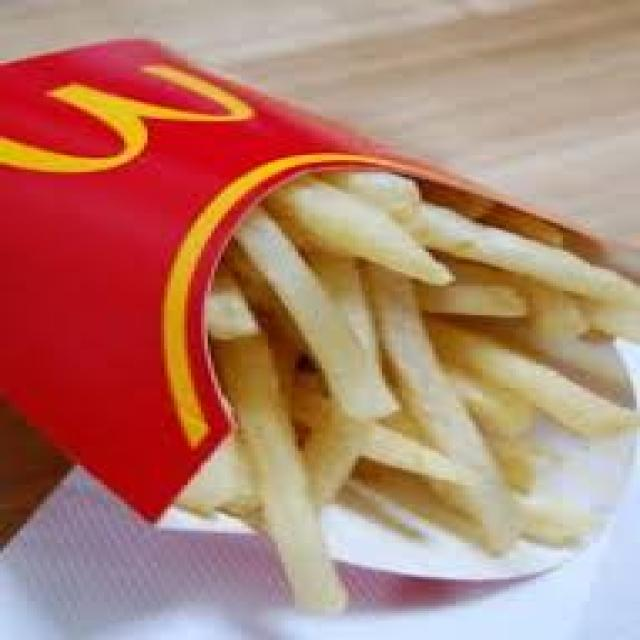food_waste: (172, 174, 634, 615)
